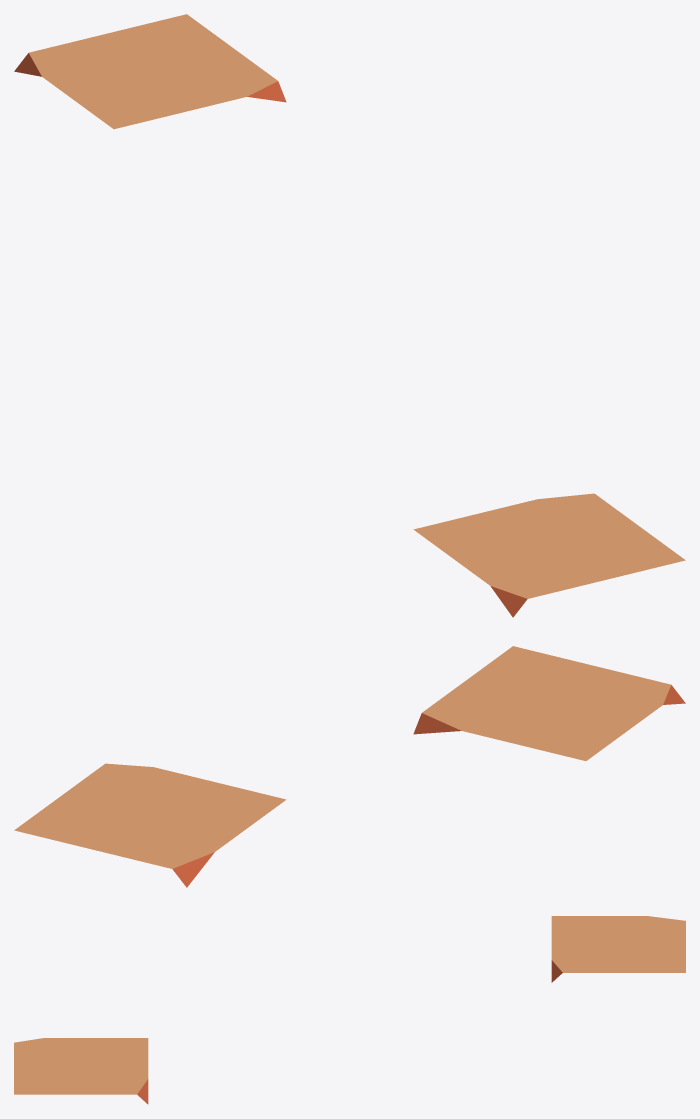
File: Stage4-1_2.fbx
The picture shows the model from 3 angles, top to bottom: view 1: azimuth 30°, elevation 25°; view 2: azimuth 150°, elevation 25°; view 3: azimuth 270°, elevation 25°; orthographic projection. The views are drawn at different scales.
Visible parts, largest first — view 1: Object150, Object149; view 2: Object149, Object150; view 3: Object149, Object150.
Boxes of the visible parts, x1,y1,x2,y2 form: Object150: (14, 14, 286, 129); Object149: (413, 493, 685, 617); Object149: (413, 646, 685, 760); Object150: (14, 763, 286, 887); Object149: (14, 1038, 148, 1104); Object150: (551, 916, 685, 982).
Size of the model in its own units: 20 by 21.69 by 100.
